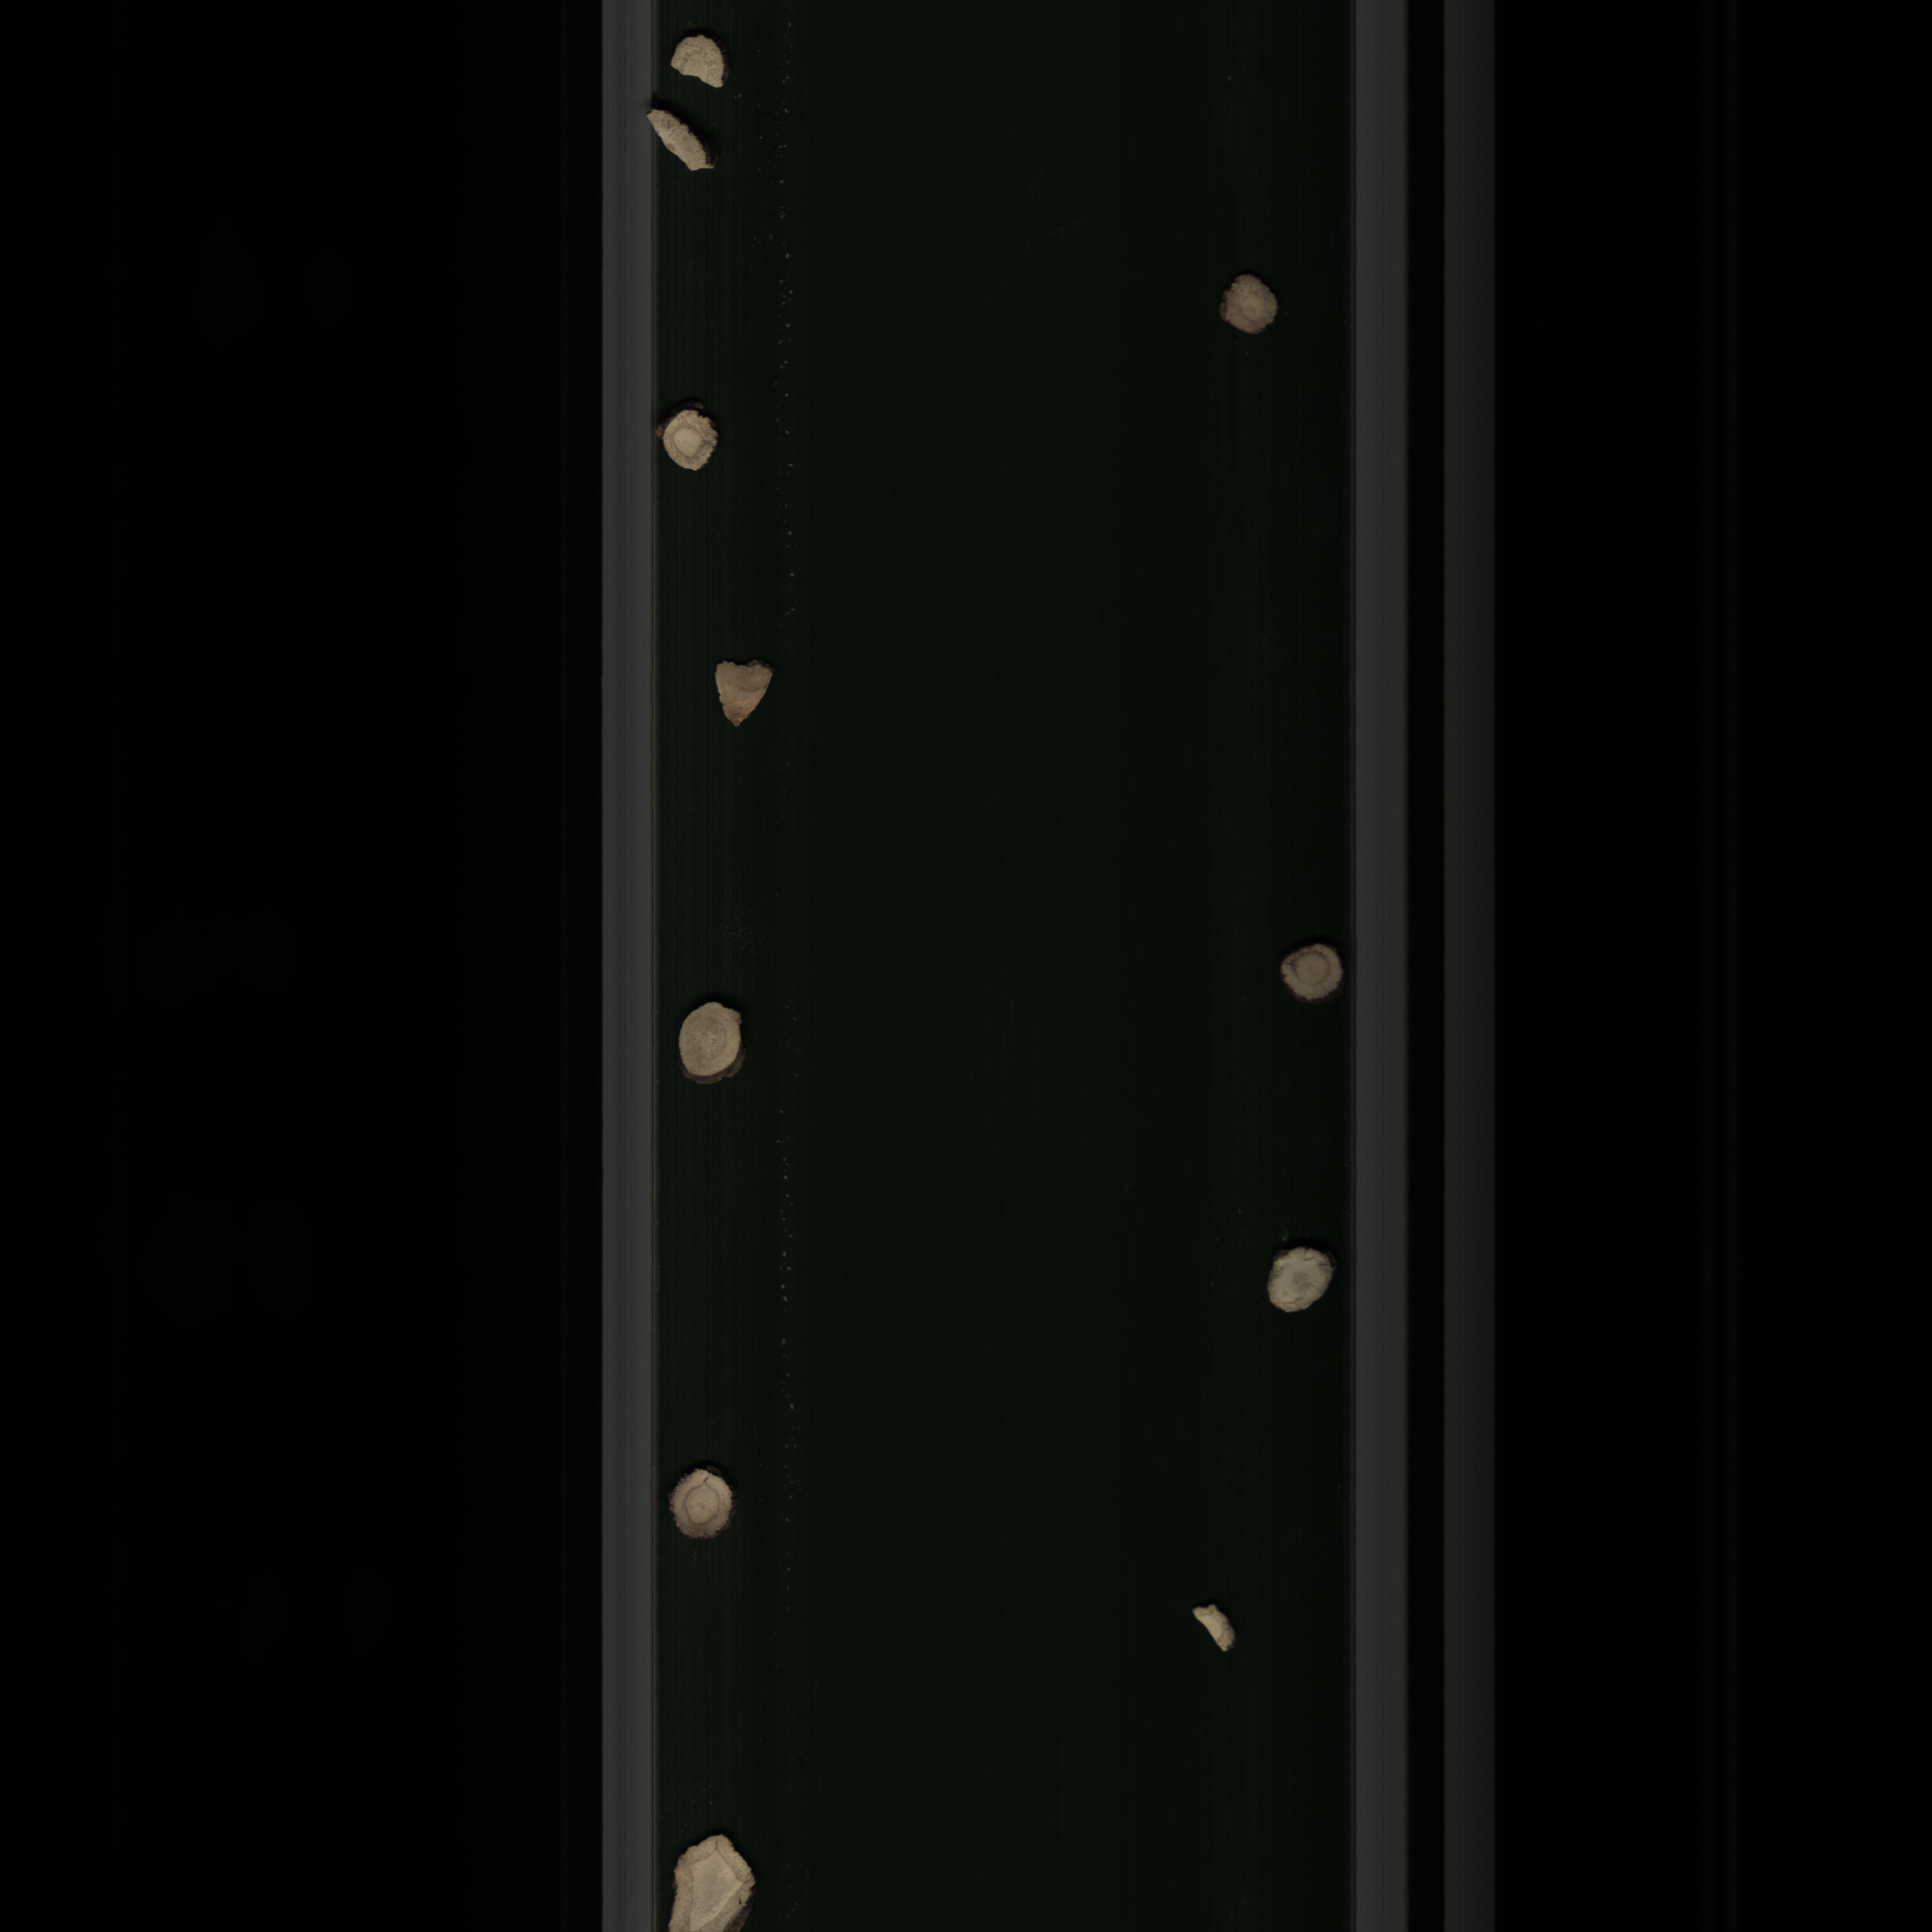debris: (658, 1833, 759, 1932), (702, 649, 773, 734), (648, 106, 715, 180), (671, 32, 732, 92), (1191, 1596, 1238, 1661)
moldy: (1269, 932, 1345, 1012)
